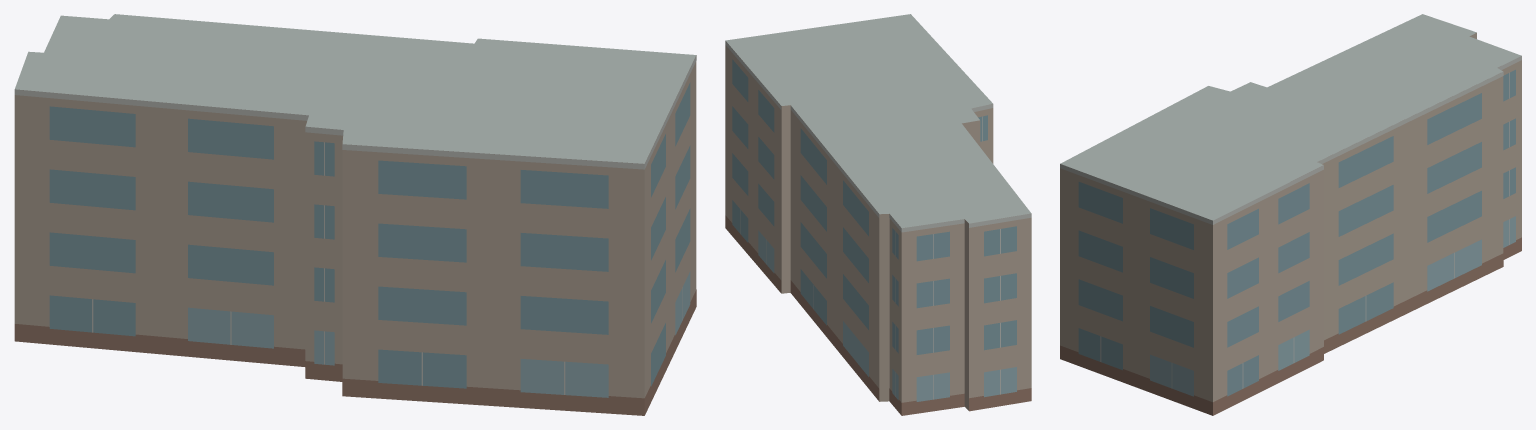
The model's file is survey-upis-32620319.glb.
3 renders of one model, left to right at view 1: azimuth 30°, elevation 25°; view 2: azimuth 150°, elevation 25°; view 3: azimuth 270°, elevation 25°, orthographic. The views are drawn at different scales.
Parts seen in each view (by area): view 1: survey-upis-32620319.tmp; view 2: survey-upis-32620319.tmp; view 3: survey-upis-32620319.tmp.
Part boxes in pixels (box(x1,y1,x2,y2)): survey-upis-32620319.tmp: box(14, 14, 696, 415); survey-upis-32620319.tmp: box(725, 14, 1031, 415); survey-upis-32620319.tmp: box(1060, 14, 1521, 415).
Size of the model in its own units: 24.52 by 10.8 by 23.15.
